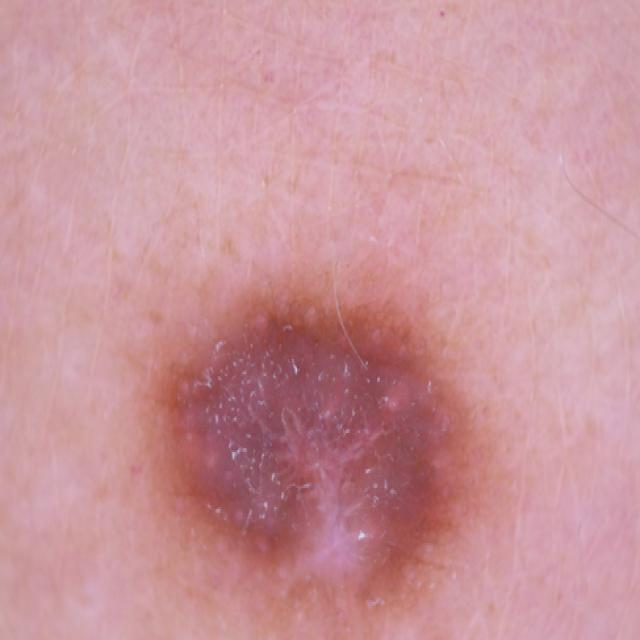Dermatofibroma: (123, 282, 509, 609)
